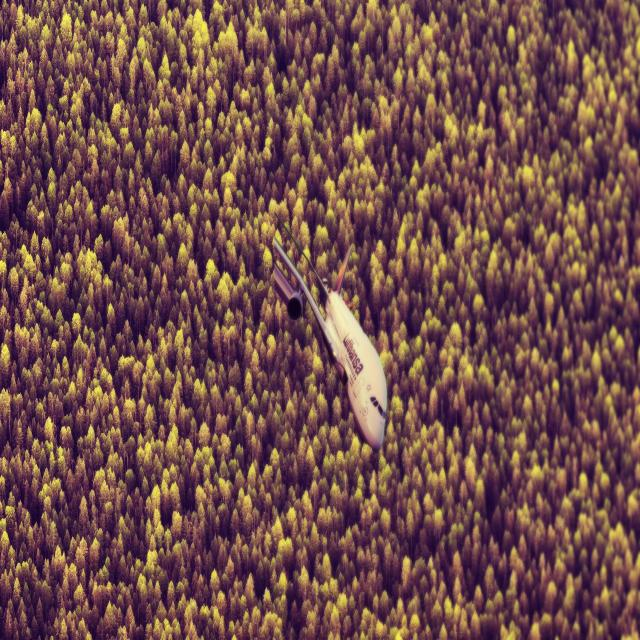airplane: (270, 212, 388, 452)
